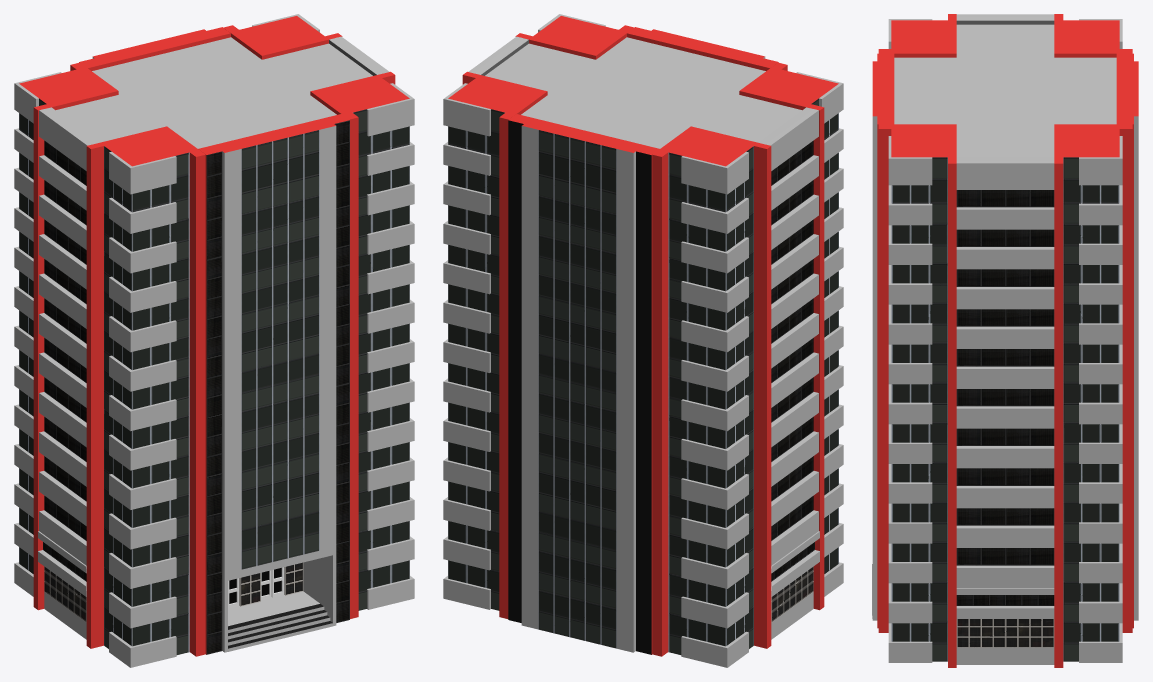
The picture shows the model from 3 angles, left to right: view 1: azimuth 30°, elevation 25°; view 2: azimuth 150°, elevation 25°; view 3: azimuth 270°, elevation 25°; orthographic projection.
Parts seen in each view (by area): view 1: Building; view 2: Building; view 3: Building.
Part boxes in pixels (x1,y1,x2,y2): Building: [14, 14, 414, 667]; Building: [443, 14, 843, 667]; Building: [872, 14, 1138, 667].
Size of what is drawn, in the model's own units: 24.26 by 38 by 18.19.
